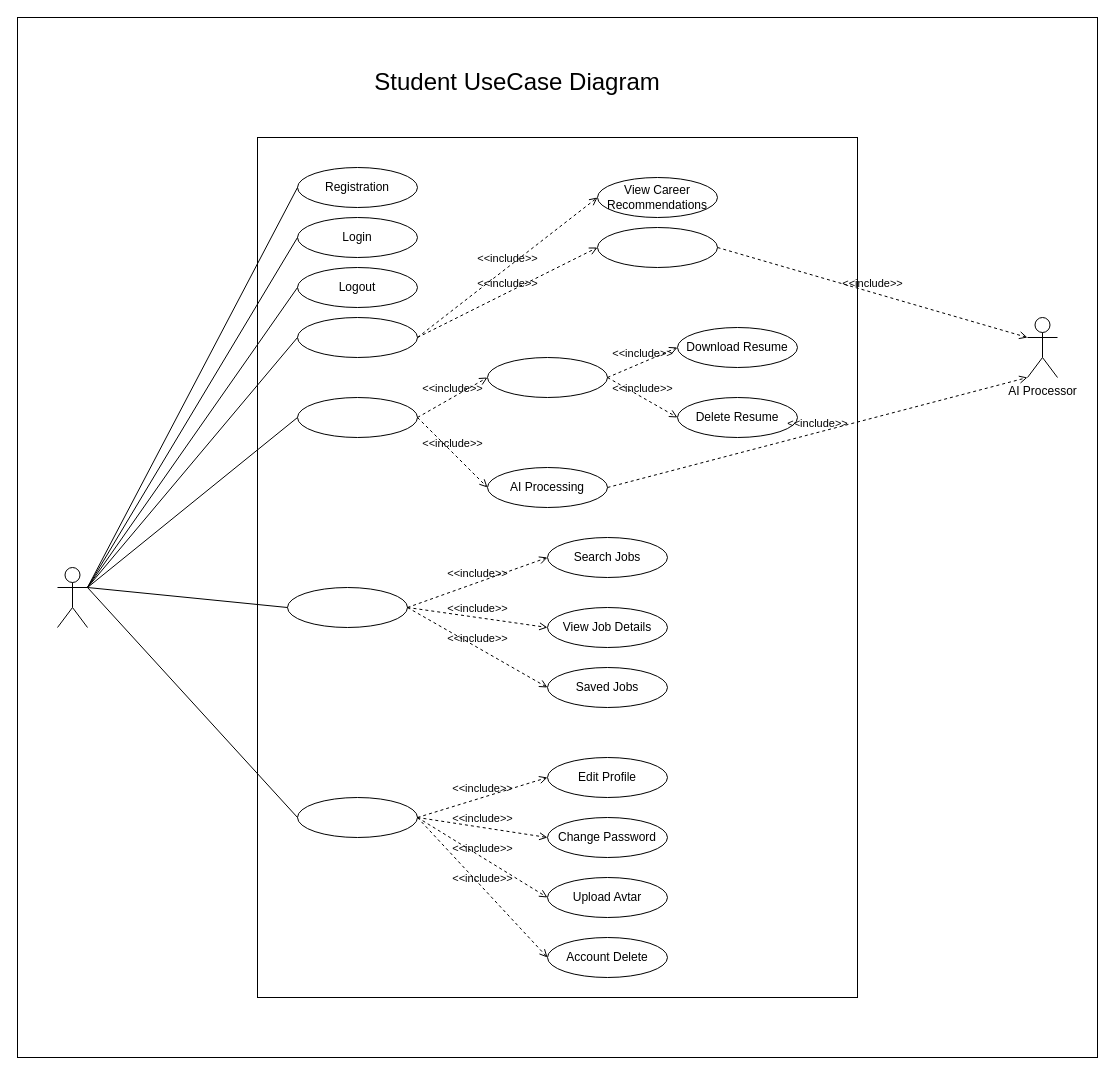
The diagram is 1115 pixels wide and 1075 high, and some of its shapes have lost their labels. Each missing label, with the centre of its shape:
Browse Jobs: point (347, 607)
Profile: point (357, 817)
Student: point (72, 597)
Upload Resume: point (357, 417)
View Extracted Skills: point (657, 247)
View Resume: point (547, 377)
View Student Dashboard: point (357, 337)
